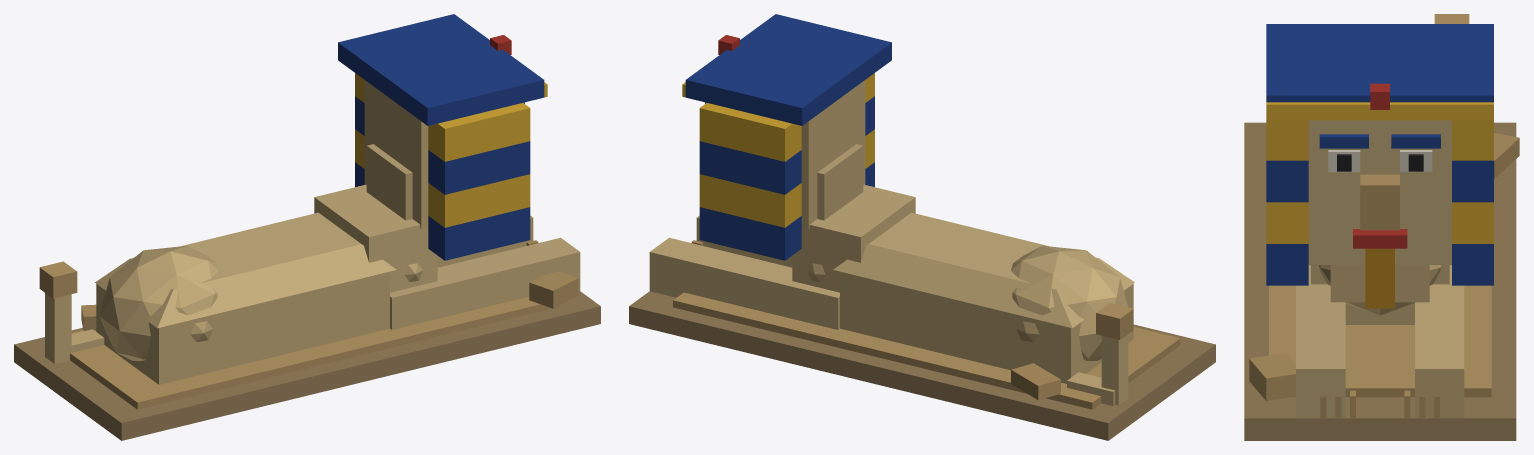
File: Decor_PharaohPyramid_Sphinx.fbx
3 views of the same model, side by side, from view 1: azimuth 30°, elevation 25°; view 2: azimuth 150°, elevation 25°; view 3: azimuth 270°, elevation 25° (orthographic). The views are drawn at different scales.
Visible parts, largest first — view 1: Sphinx_Body; view 2: Sphinx_Body; view 3: Sphinx_Body.
Part boxes in pixels (bbox=[...]): Sphinx_Body: bbox=[14, 14, 600, 440]; Sphinx_Body: bbox=[629, 14, 1215, 440]; Sphinx_Body: bbox=[1244, 14, 1519, 440].
Size of the model in its own units: 28 by 14.3 by 11.
